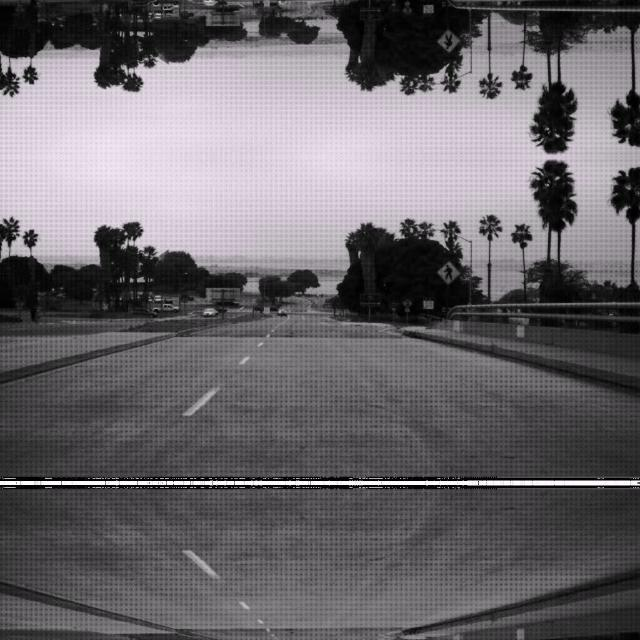pedestrianCrossing: (436, 29, 459, 52), (436, 260, 459, 282)
